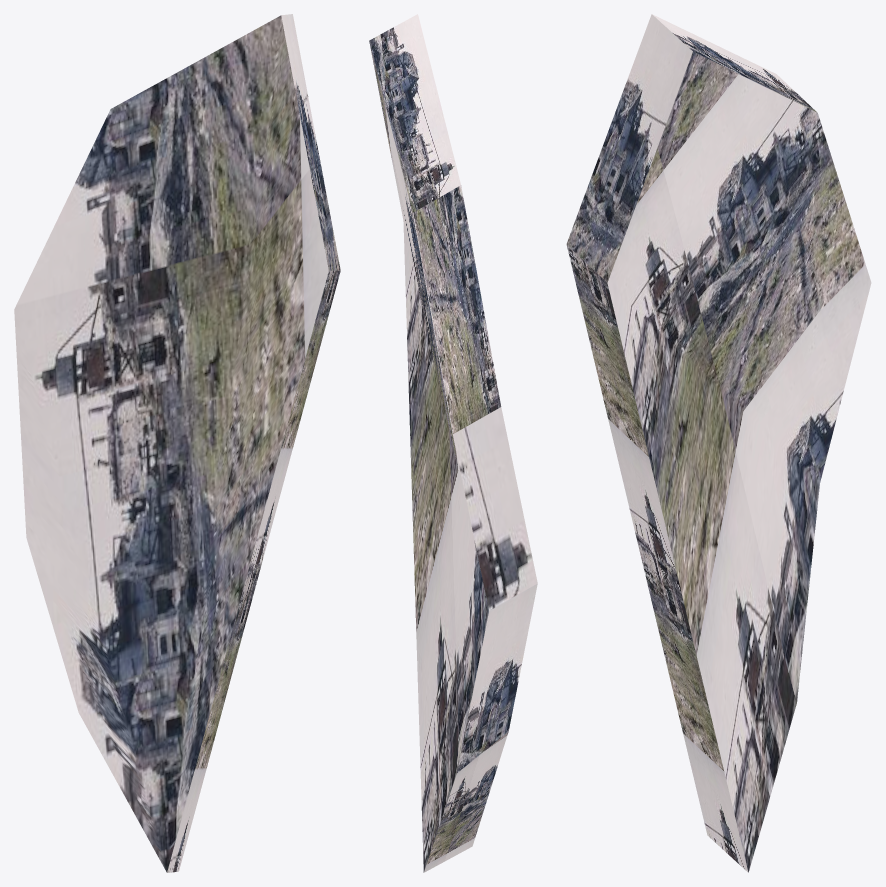
3 renders of one model, left to right at view 1: azimuth 30°, elevation 25°; view 2: azimuth 150°, elevation 25°; view 3: azimuth 270°, elevation 25°, orthographic. The views are drawn at different scales.
Parts seen in each view (by area): view 1: ak1; view 2: ak1; view 3: ak1.
Boxes of the visible parts, x1,y1,x2,y2 form: ak1: (14, 14, 340, 872); ak1: (369, 14, 537, 872); ak1: (566, 14, 871, 872).
Bounding box in the file's own units: 4.28 × 15.66 × 4.89.
1 material, 1 textured.
